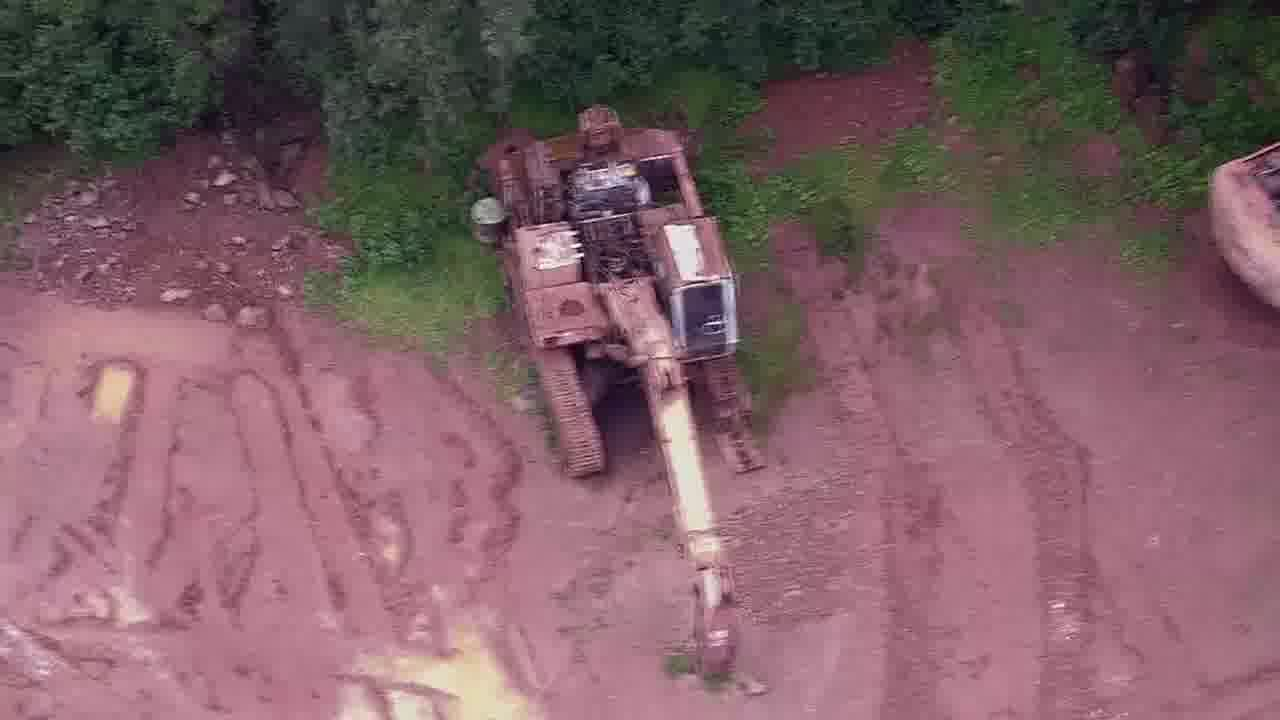HMV: (470, 96, 773, 671)
